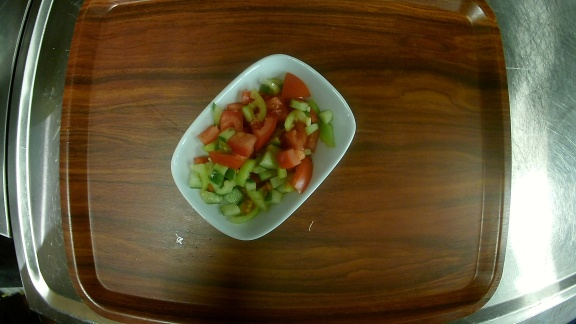cobansalata: (172, 53, 357, 240)
